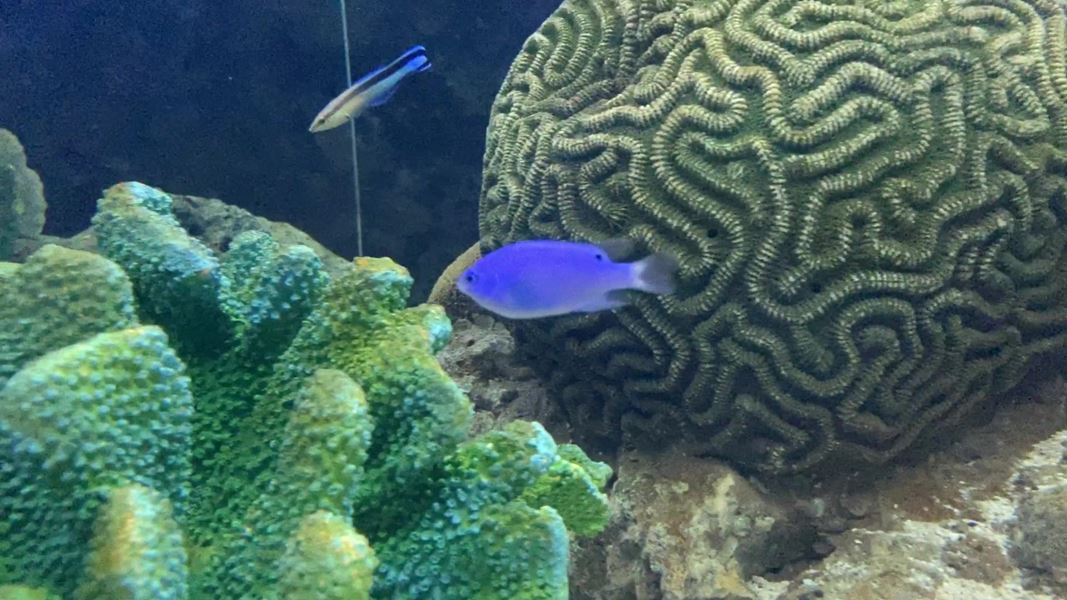Bluesteak cleaner wrasse: (299, 31, 435, 149)
